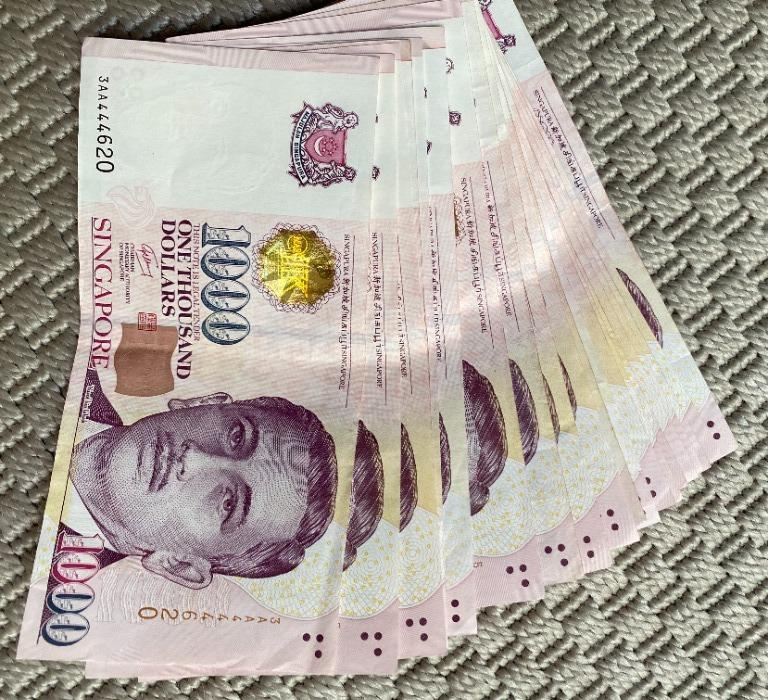1000SingaporeDollar: (46, 60, 360, 657)
